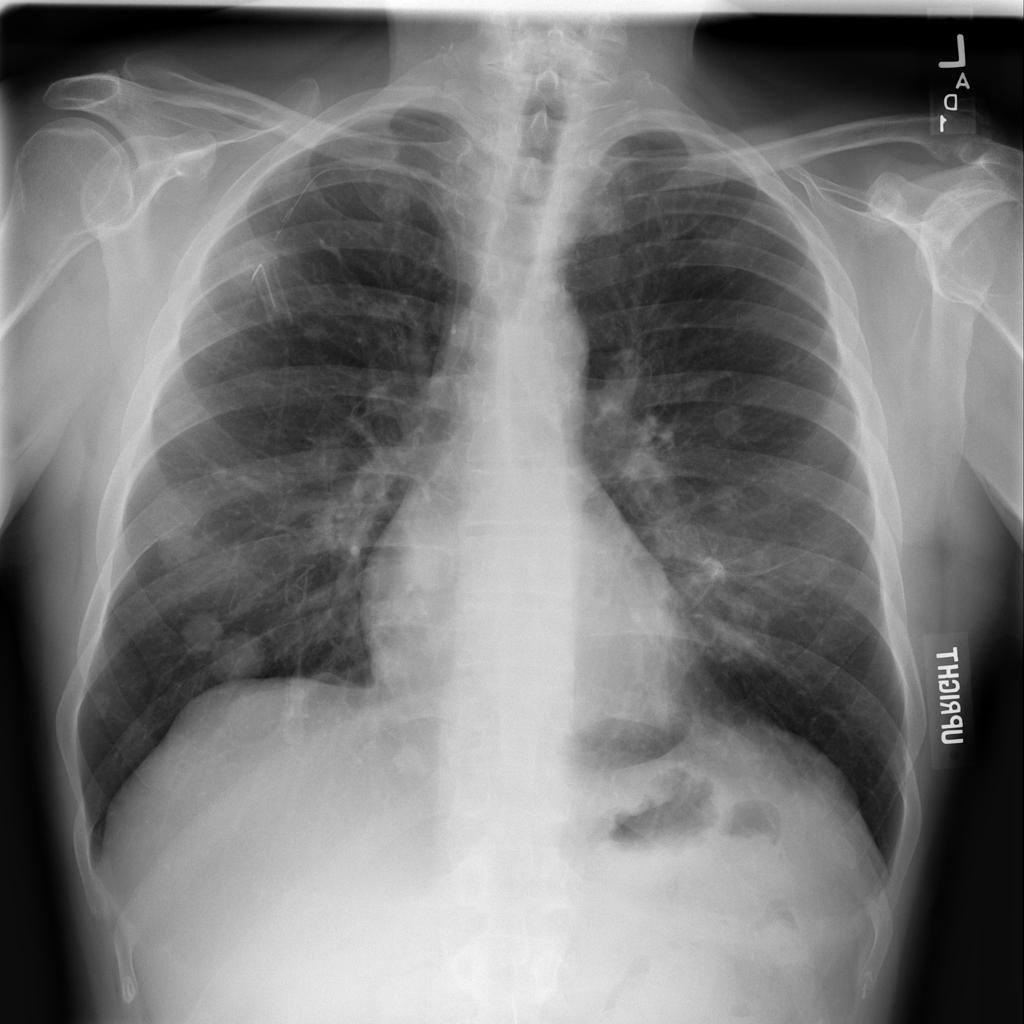nodule: (198, 624, 279, 696), (379, 725, 446, 799), (162, 597, 234, 665), (707, 397, 757, 449), (289, 307, 343, 354), (705, 474, 755, 524), (75, 680, 125, 730)
